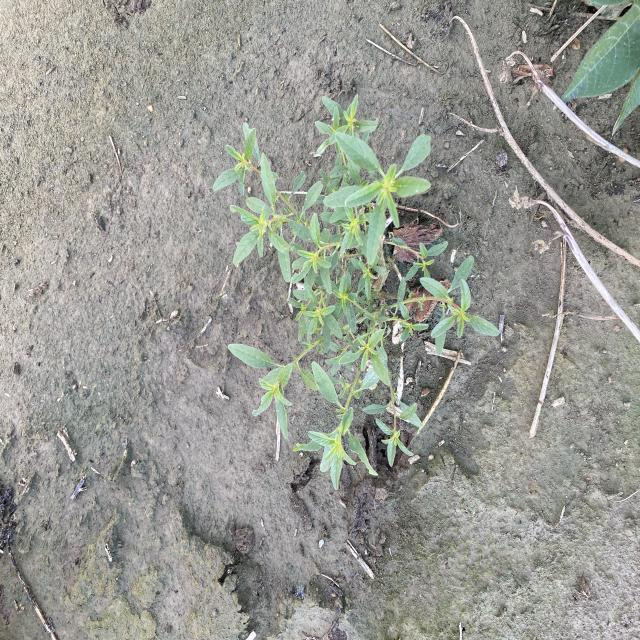Waterhemp: (211, 92, 502, 493)
